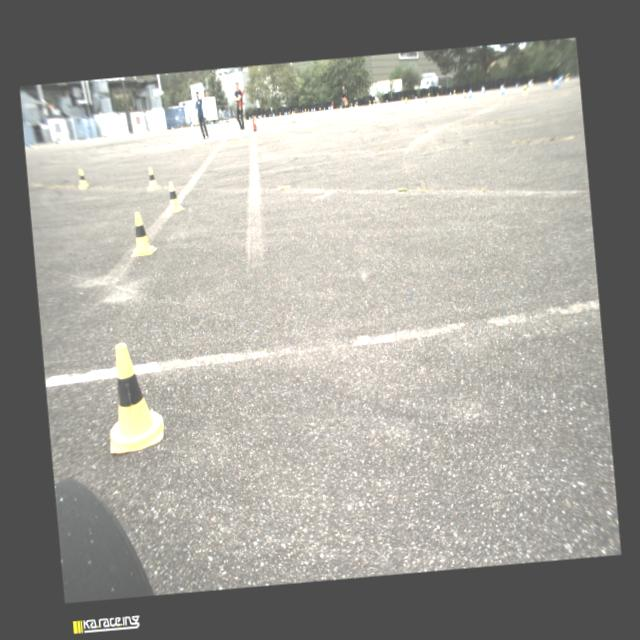blue_cone: (553, 80, 558, 88), (467, 90, 471, 98), (468, 88, 472, 96), (500, 87, 504, 94), (480, 86, 484, 93), (499, 85, 504, 90), (313, 106, 315, 112), (172, 126, 174, 131), (292, 110, 294, 115), (386, 99, 388, 103), (328, 106, 330, 110), (323, 107, 325, 111), (310, 108, 312, 112), (285, 111, 287, 115), (284, 112, 286, 116), (248, 116, 250, 120), (211, 120, 213, 124), (254, 116, 256, 119), (259, 114, 260, 119), (264, 113, 265, 118), (415, 96, 416, 100), (269, 113, 270, 117), (449, 92, 450, 95), (302, 110, 302, 113), (274, 112, 274, 118)
yellow_cone: (101, 340, 166, 452), (126, 210, 157, 256), (163, 180, 184, 213), (144, 166, 159, 190), (76, 168, 88, 188), (521, 84, 527, 94), (462, 91, 466, 102), (424, 96, 428, 106), (452, 89, 456, 96), (404, 98, 407, 106), (404, 96, 408, 102), (372, 100, 376, 106), (427, 92, 430, 99), (368, 100, 371, 107), (436, 92, 438, 99), (356, 101, 358, 108), (350, 102, 352, 109), (318, 106, 320, 112), (307, 108, 309, 113), (304, 108, 306, 113), (294, 110, 296, 114), (288, 111, 290, 115), (260, 114, 262, 118), (279, 112, 281, 115), (340, 104, 341, 109), (243, 116, 244, 121), (191, 124, 192, 129), (253, 115, 254, 119), (258, 115, 259, 118), (252, 115, 252, 119)
